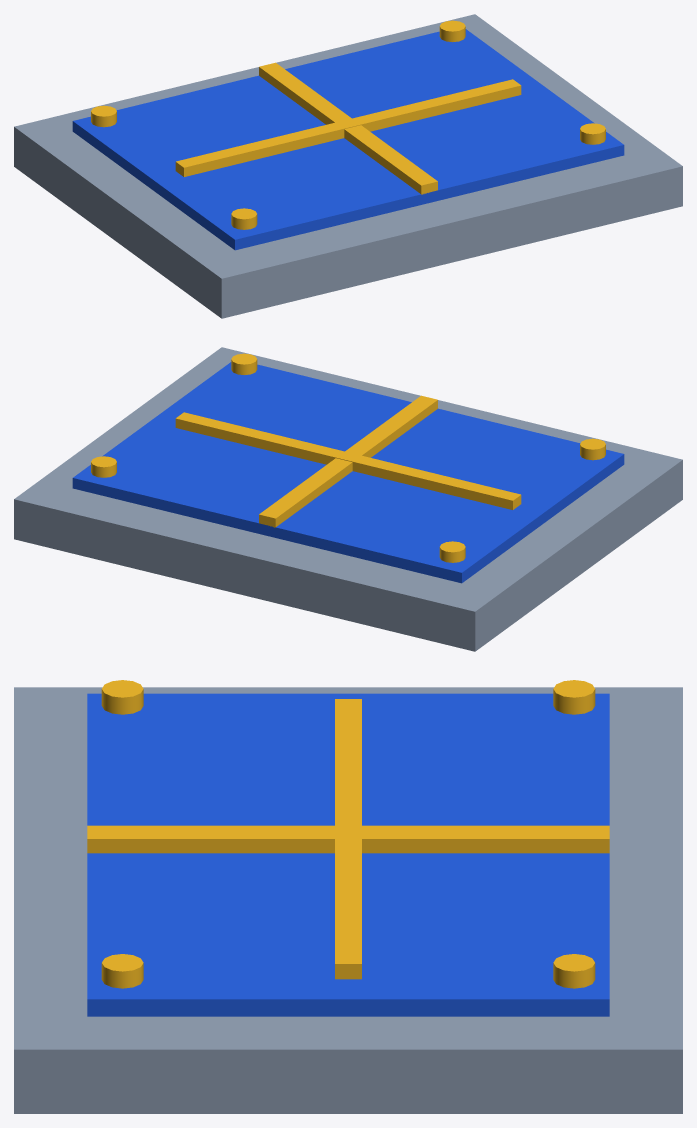
The model's file is toy_castle_shield_tile.glb.
3 views of the same model, one above another, from view 1: azimuth 30°, elevation 25°; view 2: azimuth 150°, elevation 25°; view 3: azimuth 270°, elevation 25° (orthographic). The views are drawn at different scales.
Parts seen in each view (by area): view 1: solid_2, solid_1, solid_4, solid_3, solid_6, solid_7, solid_8, solid_5; view 2: solid_2, solid_1, solid_4, solid_3, solid_5, solid_8, solid_7, solid_6; view 3: solid_2, solid_1, solid_3, solid_4, solid_5, solid_6, solid_7, solid_8.
Part boxes in pixels (x1=…): solid_2: x1=72, y1=29, x2=624, y2=250; solid_1: x1=14, y1=14, x2=682, y2=318; solid_4: x1=175, y1=79, x2=521, y2=176; solid_3: x1=259, y1=62, x2=437, y2=194; solid_6: x1=231, y1=208, x2=257, y2=229; solid_7: x1=439, y1=20, x2=465, y2=42; solid_8: x1=580, y1=123, x2=605, y2=144; solid_5: x1=91, y1=105, x2=116, y2=127; solid_2: x1=72, y1=362, x2=624, y2=583; solid_1: x1=14, y1=347, x2=682, y2=651; solid_4: x1=175, y1=412, x2=521, y2=509; solid_3: x1=259, y1=395, x2=437, y2=527; solid_5: x1=439, y1=541, x2=465, y2=562; solid_8: x1=231, y1=353, x2=257, y2=375; solid_7: x1=91, y1=456, x2=116, y2=477; solid_6: x1=580, y1=438, x2=605, y2=460; solid_2: x1=87, y1=693, x2=609, y2=1016; solid_1: x1=14, y1=687, x2=682, y2=1113; solid_3: x1=87, y1=825, x2=609, y2=853; solid_4: x1=335, y1=699, x2=361, y2=979; solid_5: x1=553, y1=680, x2=595, y2=714; solid_6: x1=101, y1=680, x2=143, y2=714; solid_7: x1=553, y1=954, x2=595, y2=988; solid_8: x1=101, y1=954, x2=143, y2=988.
Bounding box in the file's own units: 4.1 × 0.565 × 3.2.
